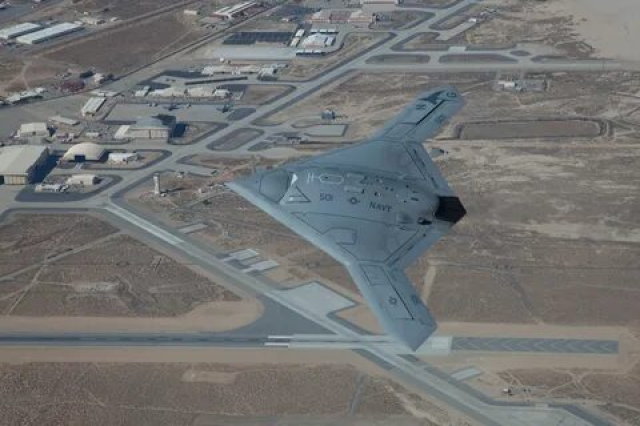military drone: (223, 86, 468, 351)
